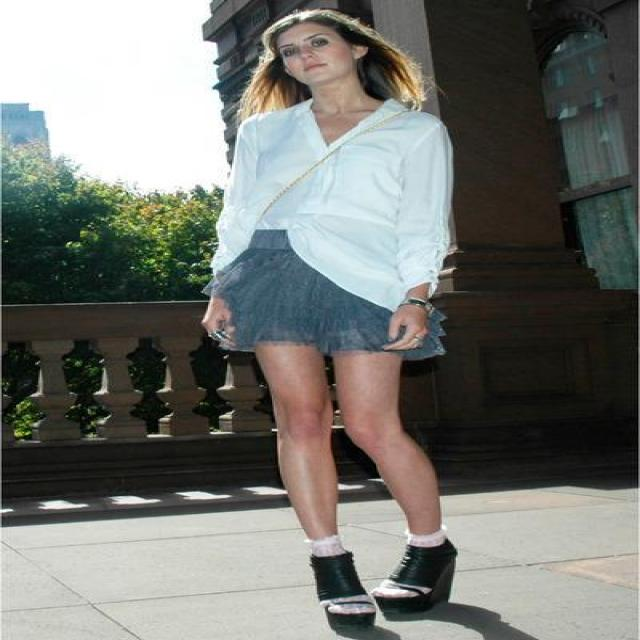jacket: (208, 100, 456, 310)
shoe: (310, 538, 456, 620)
skirt: (202, 230, 446, 360)
